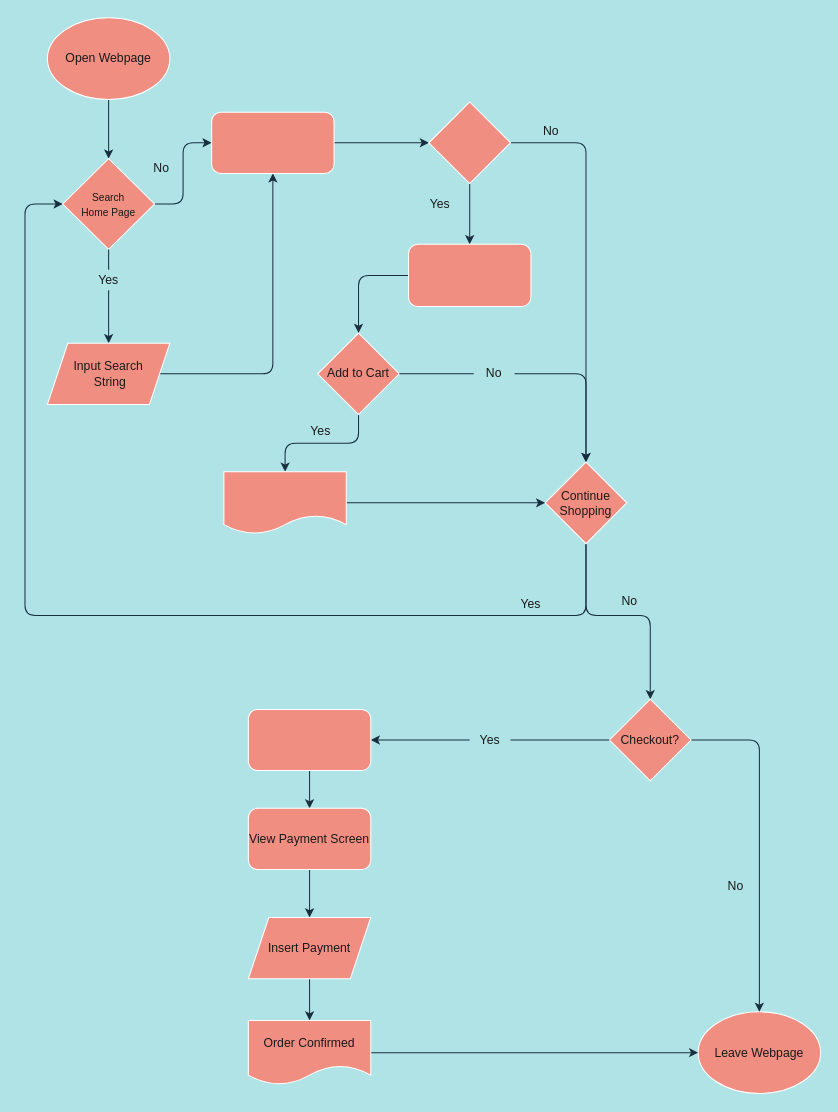
Some shapes in this 838 by 1112 pixel diagram are drawn without their labels. The shapes that lost their labels are listed below. From the top down, each one's box as (x1, y1, x2, y2) in pixels, then its label:
(211, 111, 334, 173): Look At Products
(428, 101, 511, 184): View an Item
(407, 243, 531, 307): Open Product Page
(223, 471, 346, 534): Item Added to Cart
(247, 708, 371, 771): View Cart Screen
